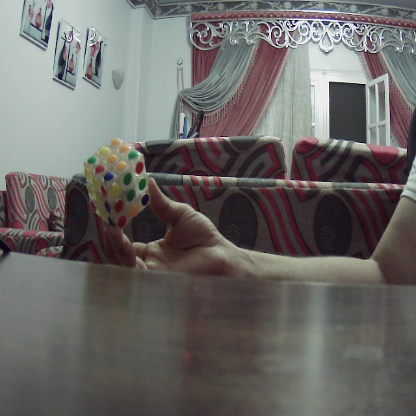Rubix Cube: (80, 139, 149, 227)
